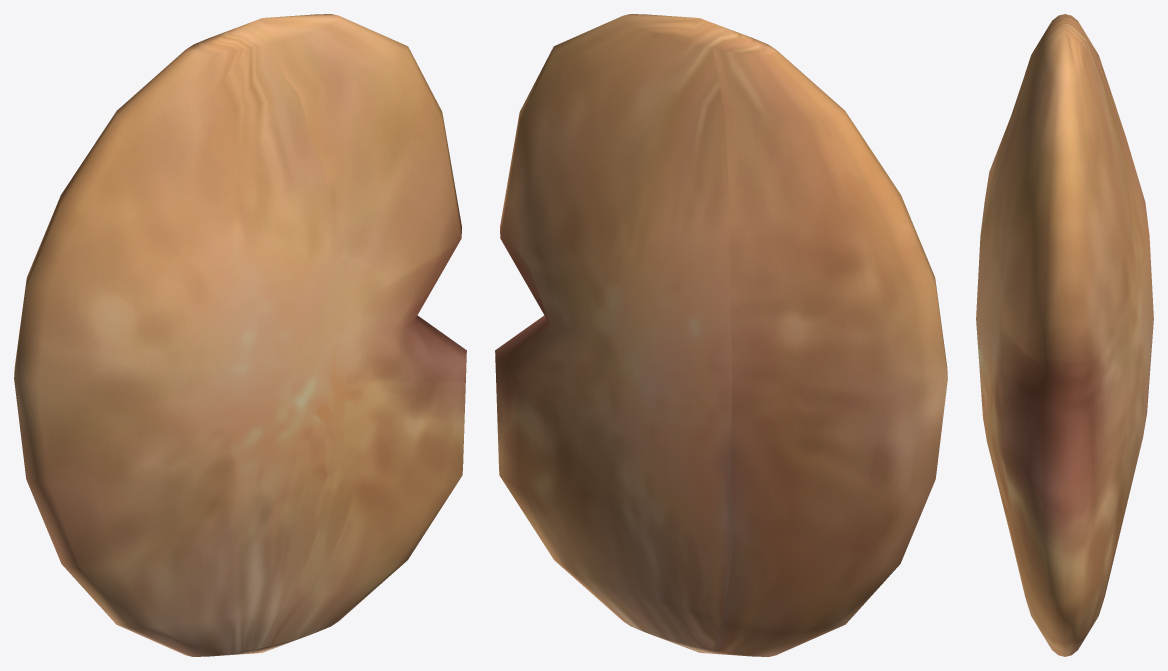
The model's file is Eggplant_seed.fbx.
The picture shows the model from 3 angles, left to right: view 1: azimuth 30°, elevation 25°; view 2: azimuth 150°, elevation 25°; view 3: azimuth 270°, elevation 25°; orthographic projection. The views are drawn at different scales.
Parts seen in each view (by area): view 1: pSphere1; view 2: pSphere1; view 3: pSphere1.
Boxes of the visible parts, <box> form: pSphere1: <box>14,14,466,656</box>; pSphere1: <box>495,14,947,656</box>; pSphere1: <box>976,14,1153,656</box>.
Bounding box in the file's own units: 2.48 × 3.32 × 0.888.
